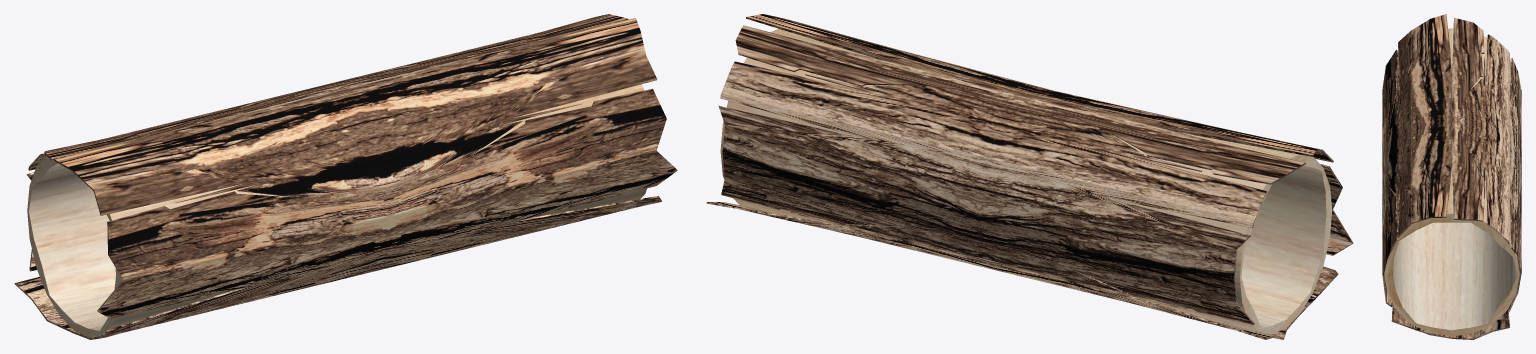
Rendered from woodLog.fbx.
3 views of the same model, side by side, from view 1: azimuth 30°, elevation 25°; view 2: azimuth 150°, elevation 25°; view 3: azimuth 270°, elevation 25° (orthographic). The views are drawn at different scales.
Parts seen in each view (by area): view 1: polySurface1; view 2: polySurface1; view 3: polySurface1.
Part boxes in pixels (x1,y1,x2,y2): polySurface1: [14, 14, 677, 339]; polySurface1: [706, 14, 1353, 339]; polySurface1: [1382, 14, 1521, 339].
Size of the model in its own units: 4202 by 1262 by 1220.
2 materials, 2 textured.
